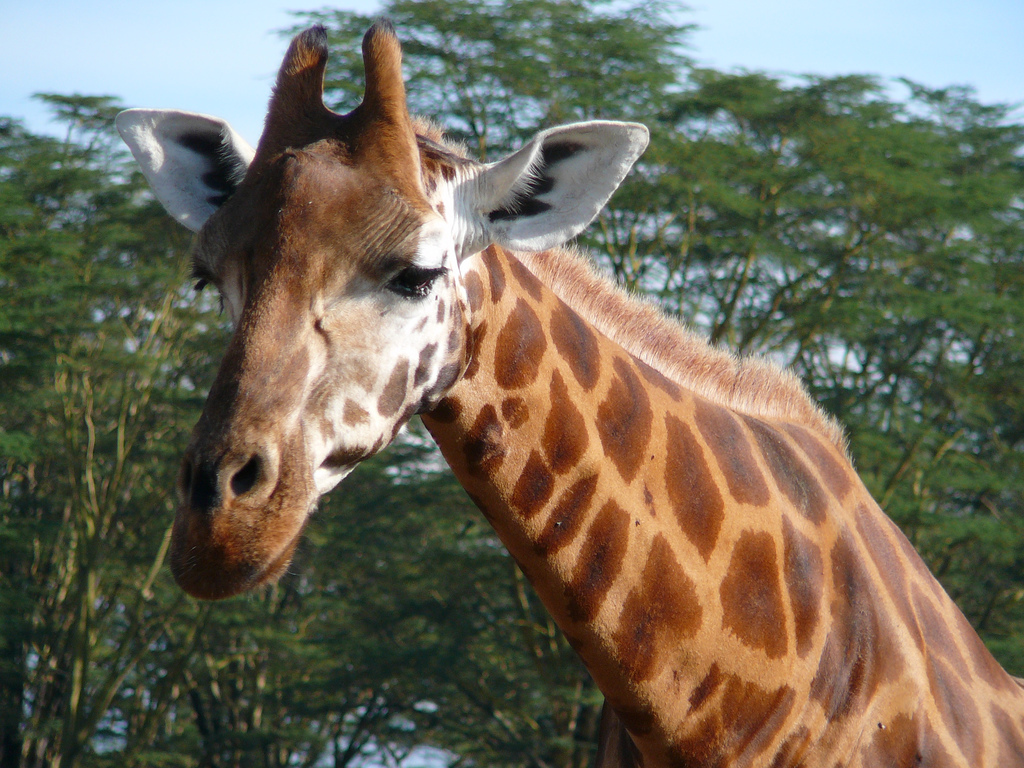giraffe: (141, 34, 926, 762)
